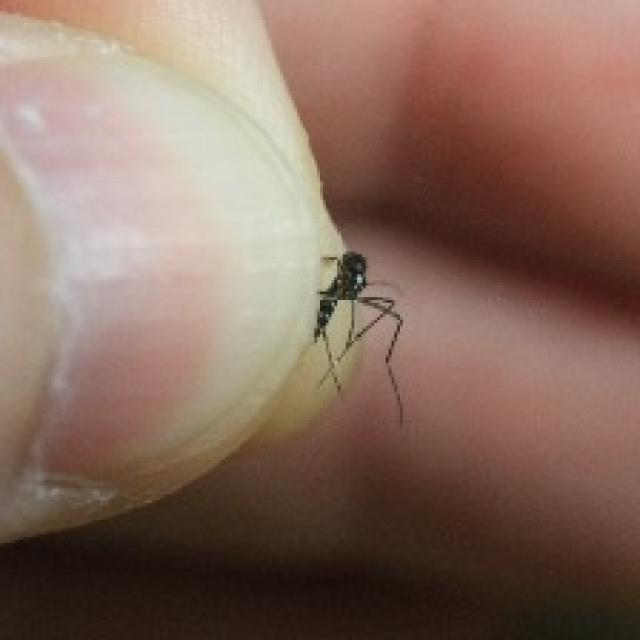aedes: (308, 245, 406, 426)
